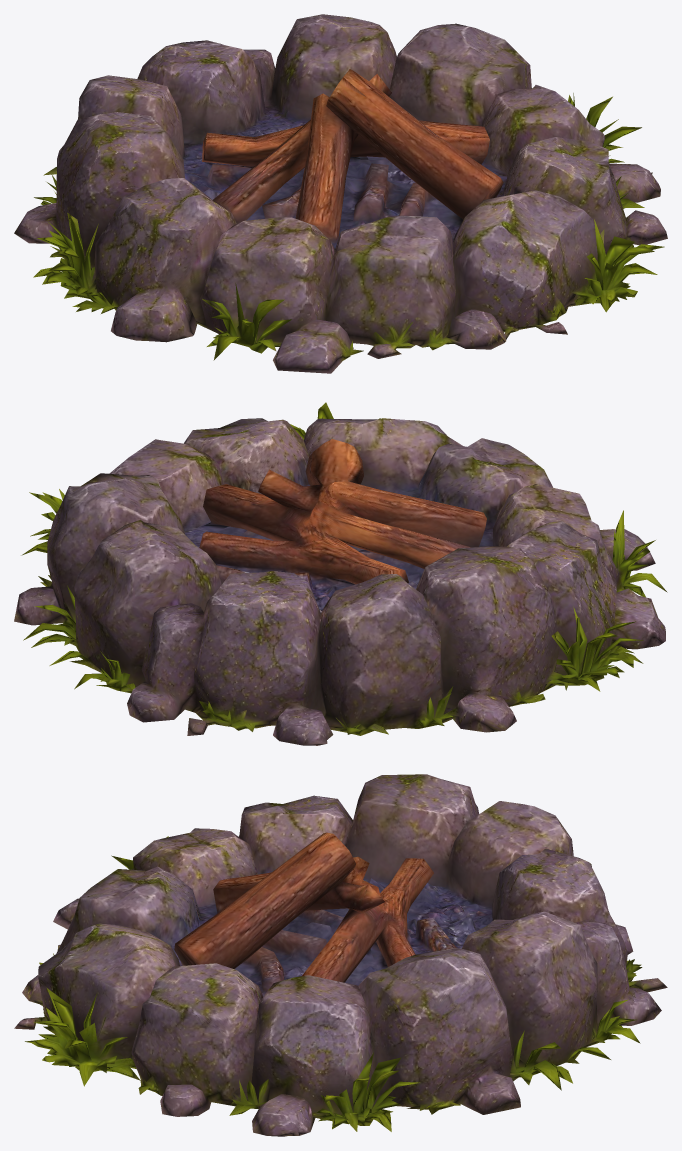
File: gen_campfire.glb
3 views of the same model, one above another, from view 1: azimuth 30°, elevation 25°; view 2: azimuth 150°, elevation 25°; view 3: azimuth 270°, elevation 25° (orthographic). The views are drawn at different scales.
Parts seen in each view (by area): view 1: tripo_node_14c42ee2-a937-4d62-9229-0818ebdf3a59; view 2: tripo_node_14c42ee2-a937-4d62-9229-0818ebdf3a59; view 3: tripo_node_14c42ee2-a937-4d62-9229-0818ebdf3a59.
Boxes of the visible parts, <box> form: tripo_node_14c42ee2-a937-4d62-9229-0818ebdf3a59: <box>14,14,667,373</box>; tripo_node_14c42ee2-a937-4d62-9229-0818ebdf3a59: <box>14,402,667,745</box>; tripo_node_14c42ee2-a937-4d62-9229-0818ebdf3a59: <box>14,774,667,1136</box>.
Size of the model in its own units: 0.9867 by 0.2632 by 0.9352.
Materials: 1 (1 with a texture image).
